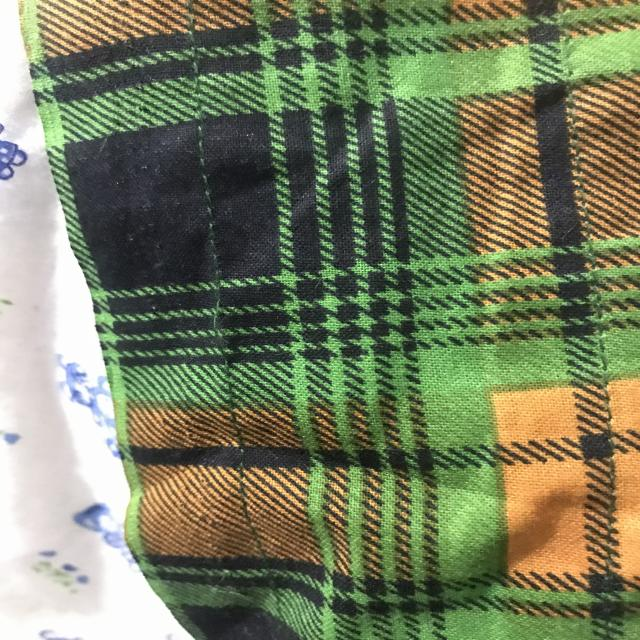good: (176, 151, 232, 251)
skip: (195, 288, 244, 370)
